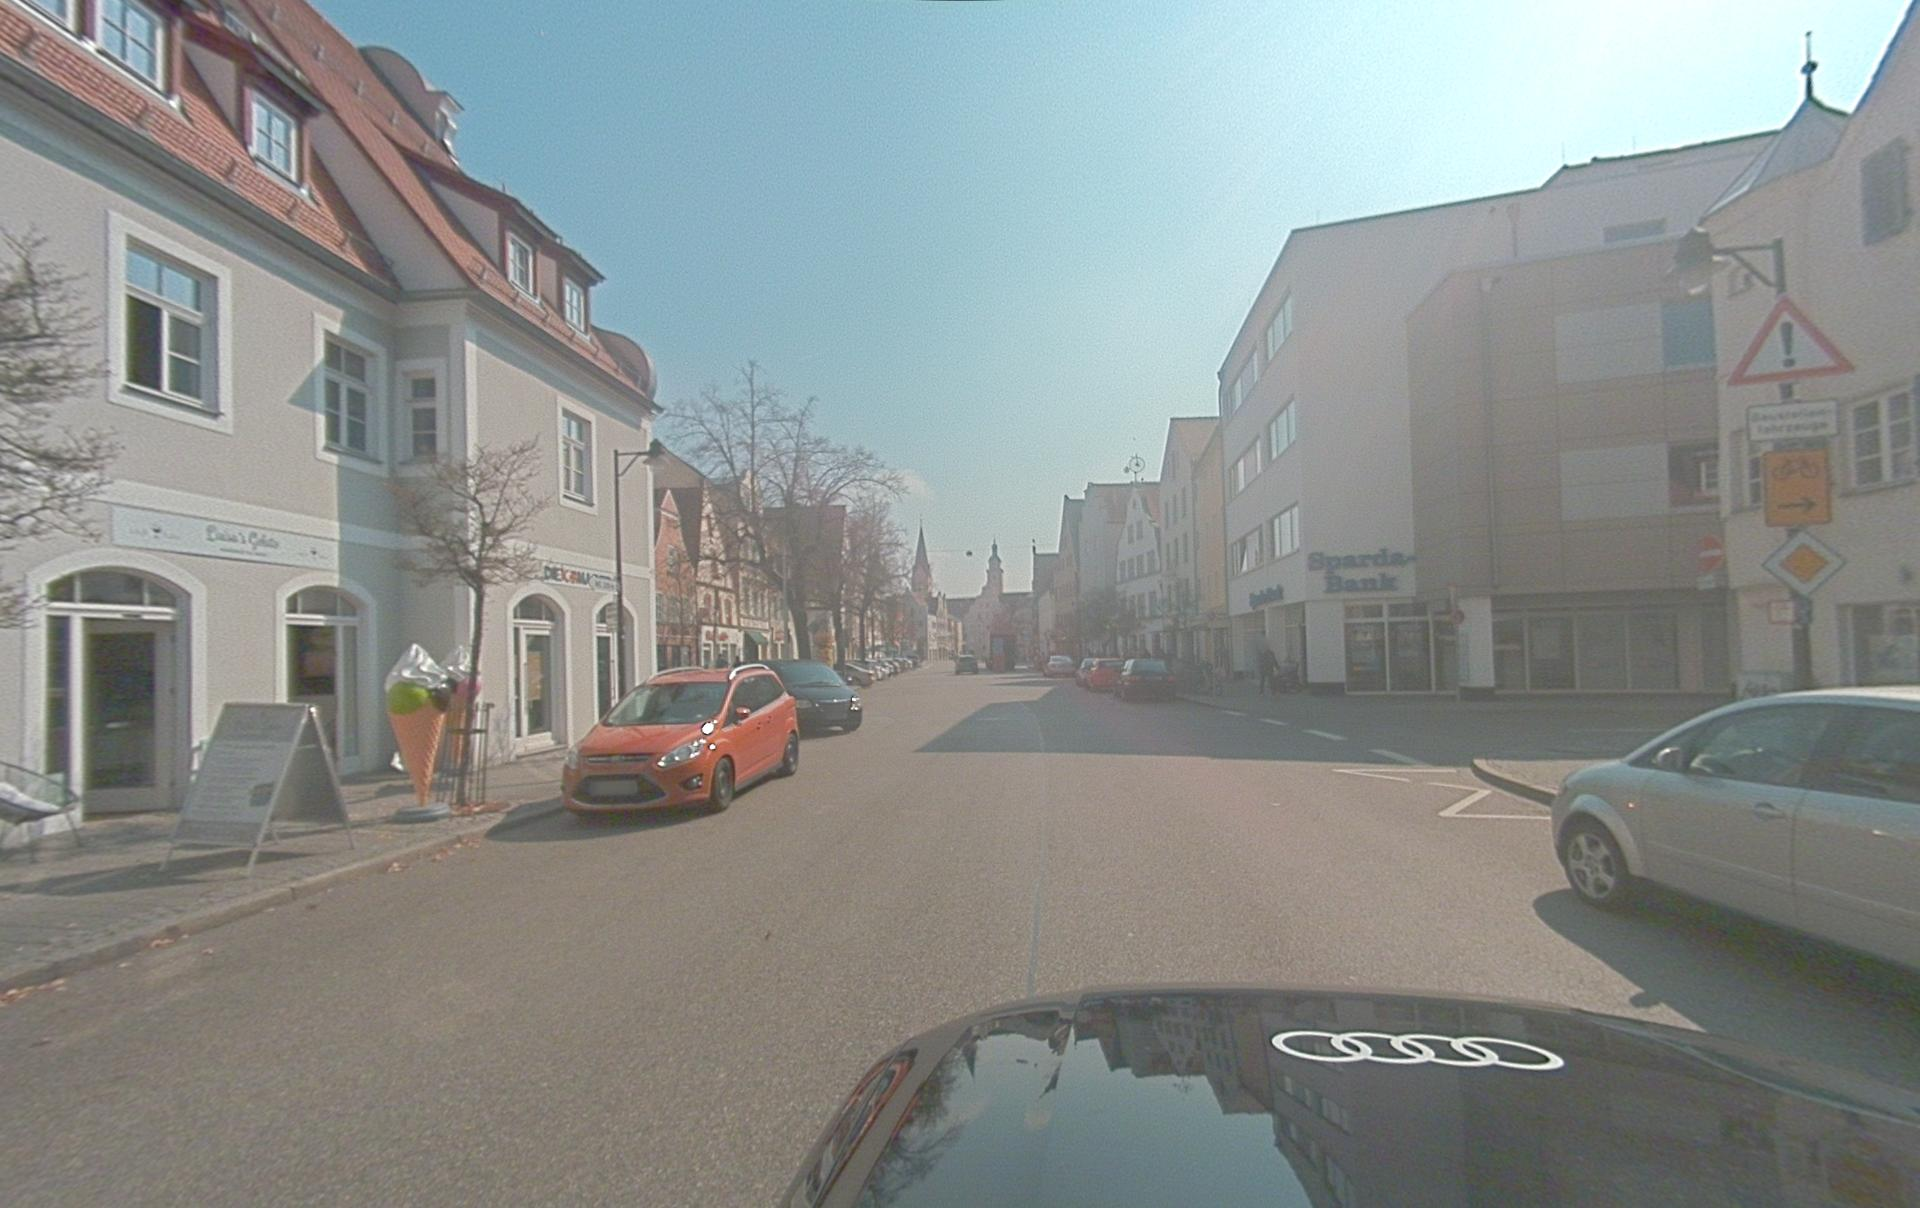car: (775, 984, 1920, 1207), (1550, 685, 1920, 971), (561, 664, 800, 818), (740, 658, 864, 733), (1116, 658, 1177, 701), (1078, 657, 1123, 692), (1043, 654, 1075, 676), (956, 654, 978, 674)
